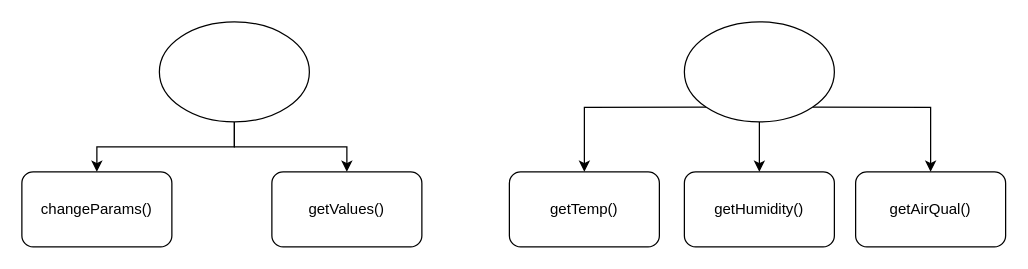
The diagram is 1028 pixels wide and 269 high, and some of its shapes have lost their labels. Here are the shapes that lost their labels. From the top down, the box of each, then its label:
(158, 21, 309, 122): mqttSub()
(683, 21, 834, 122): getClimate()
